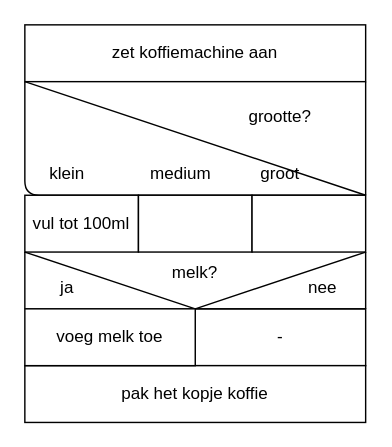
Image size: 392x447. Some labels were removed from this diagram. Each missing label, with the centre of its shape:
"vul tot 150ml" goes at point 194,223.
"vul tot 200ml" goes at point 308,223.
